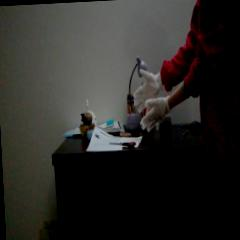gloved: (132, 68, 162, 106), (139, 98, 170, 132)
